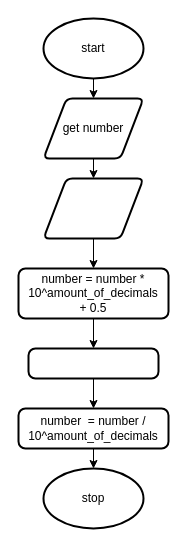
This 186x546 diagram has some shape labels left out. The centre of each missing label's shape, as x and y in pixels:
get amount of decimals: pixel 93 208
number = int(number): pixel 93 363
